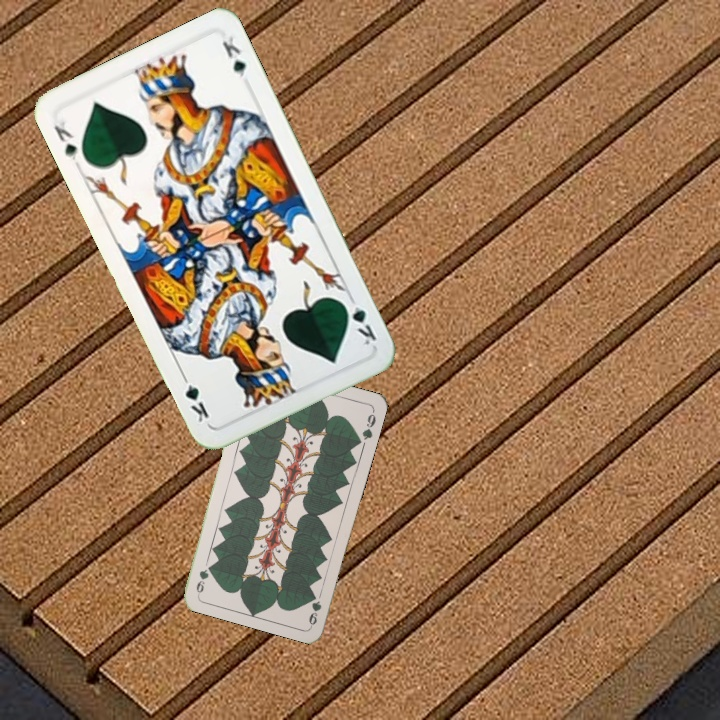G9: (305, 589, 324, 628)
GK: (338, 297, 379, 348), (50, 117, 81, 165)
